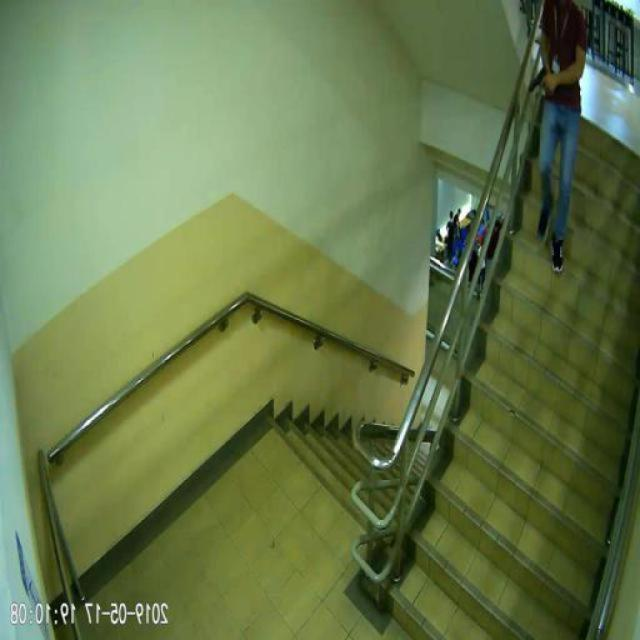pistol: (531, 66, 551, 92)
